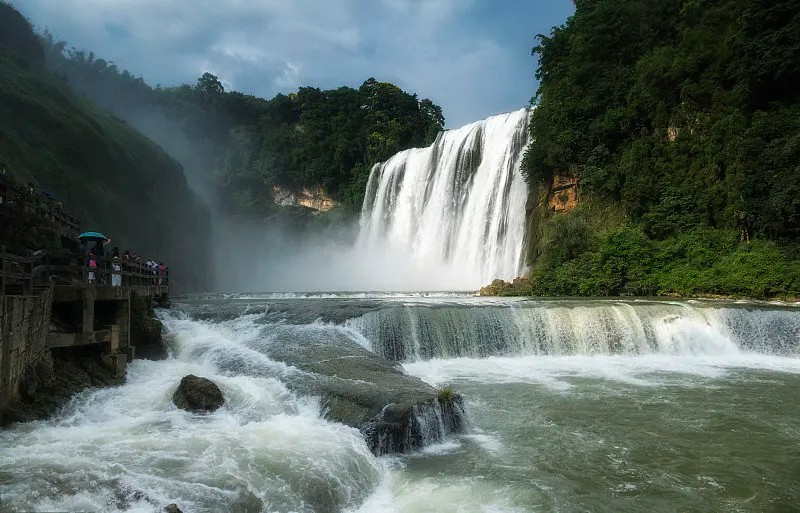Huangguoshu: (350, 107, 533, 294)
